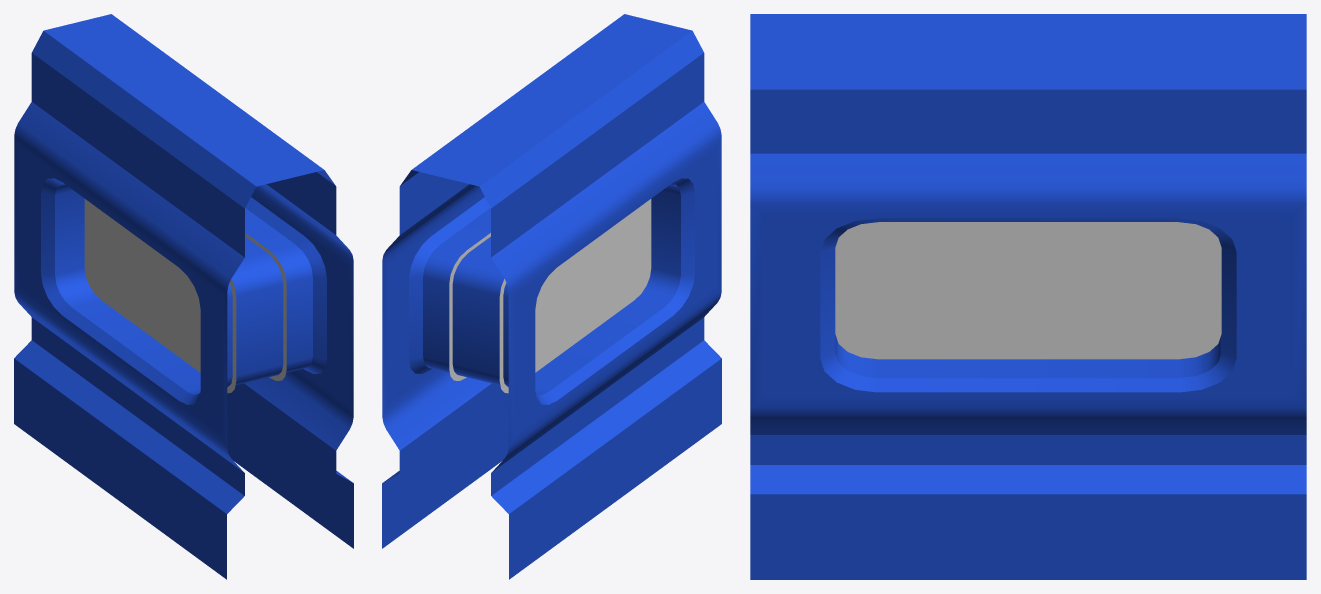
The model's file is Wall_B_3_2.fbx.
The picture shows the model from 3 angles, left to right: view 1: azimuth 30°, elevation 25°; view 2: azimuth 150°, elevation 25°; view 3: azimuth 270°, elevation 25°; orthographic projection. The views are drawn at different scales.
Parts seen in each view (by area): view 1: Wall_3_2; view 2: Wall_3_2; view 3: Wall_3_2.
Boxes of the visible parts, x1,y1,x2,y2 form: Wall_3_2: [14, 14, 353, 579]; Wall_3_2: [382, 14, 721, 579]; Wall_3_2: [750, 14, 1306, 579].
Size of the model in its own units: 0.6871 by 2 by 2.
